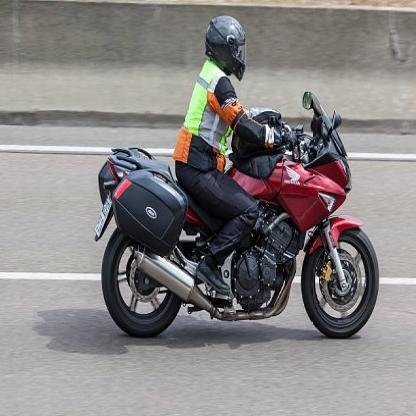Motorcycle: (94, 107, 380, 338)
